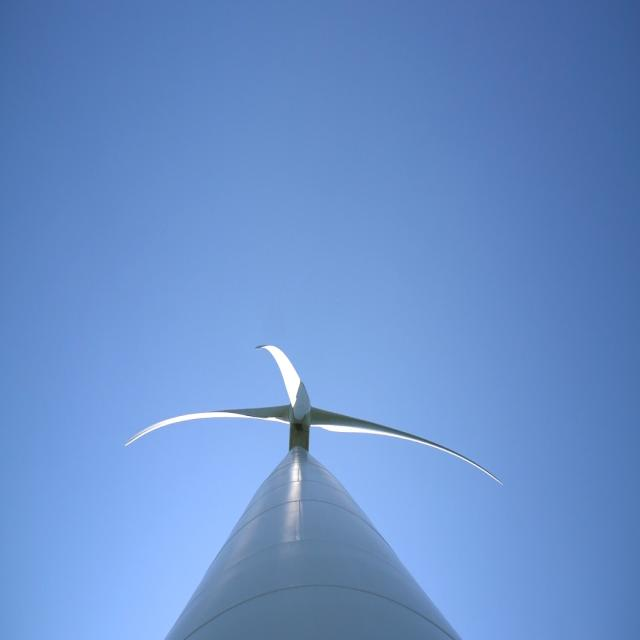blade 1: (259, 315, 313, 374)
blade 2: (378, 402, 499, 498)
blade 3: (101, 383, 270, 458)
